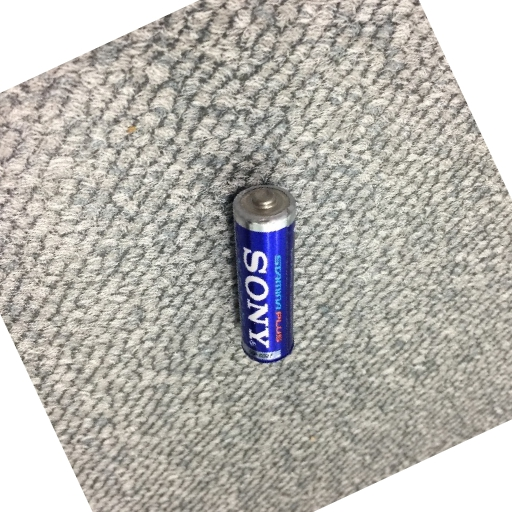Battery_0: (225, 173, 306, 384)
